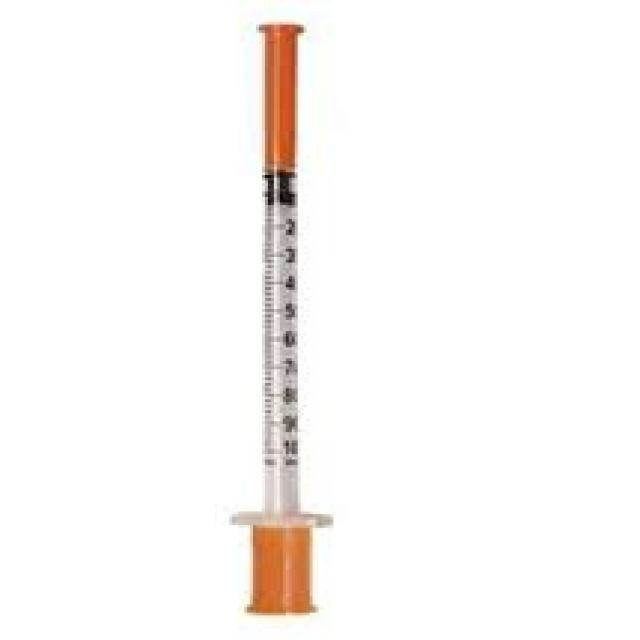syringe: (179, 8, 390, 603)
